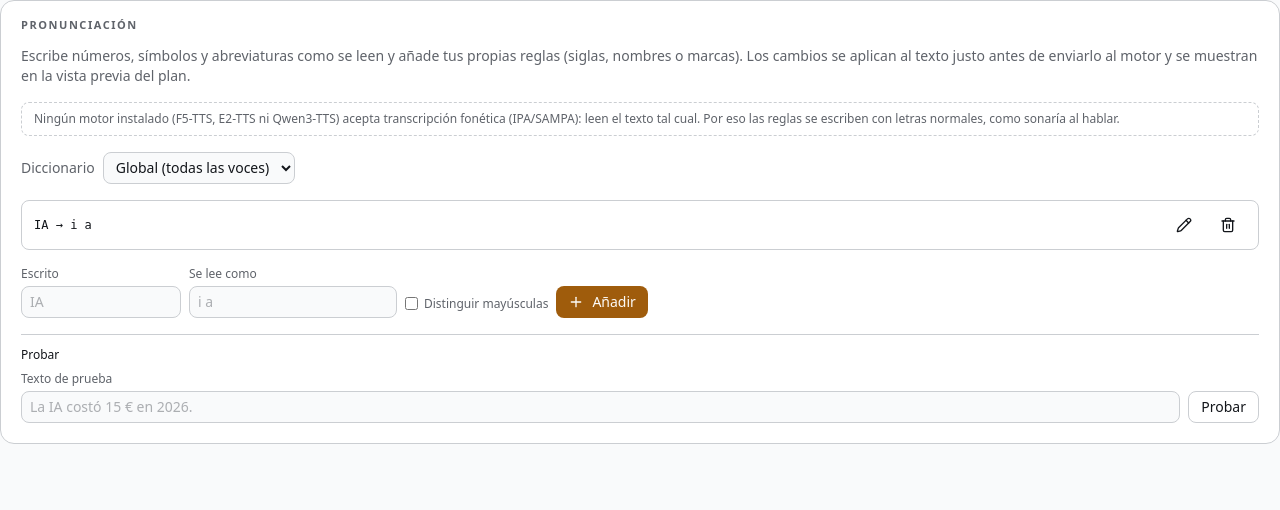
PronunciationCard › lists entries, adds one for a voice and shows the IPA limitation
Check: the text "IA → i a" is shown, box top-left (34, 218), bottom-right (92, 232)
Check: the text "transcripción fonética" is shown, box top-left (34, 110), bottom-right (1120, 126)
Step 1. Select "Mateo" in the dropdown labelled "Diccionario" → (199, 168), box top-left (103, 152), bottom-right (295, 184)
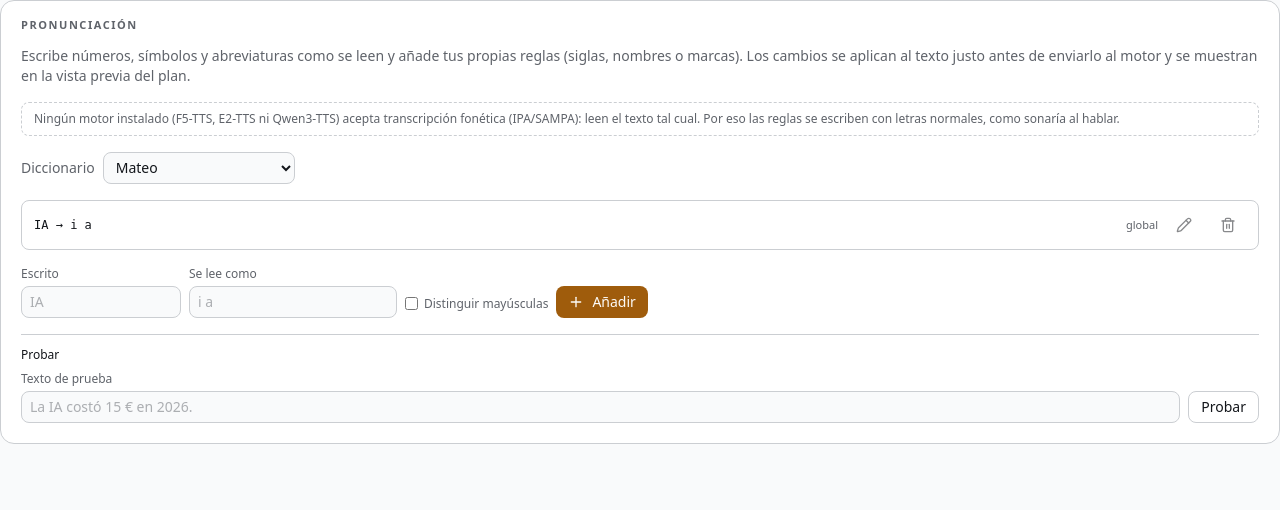
Step 2. Type " NASA " into the field labelled "Escrito" → (101, 302), box top-left (21, 286), bottom-right (181, 318)
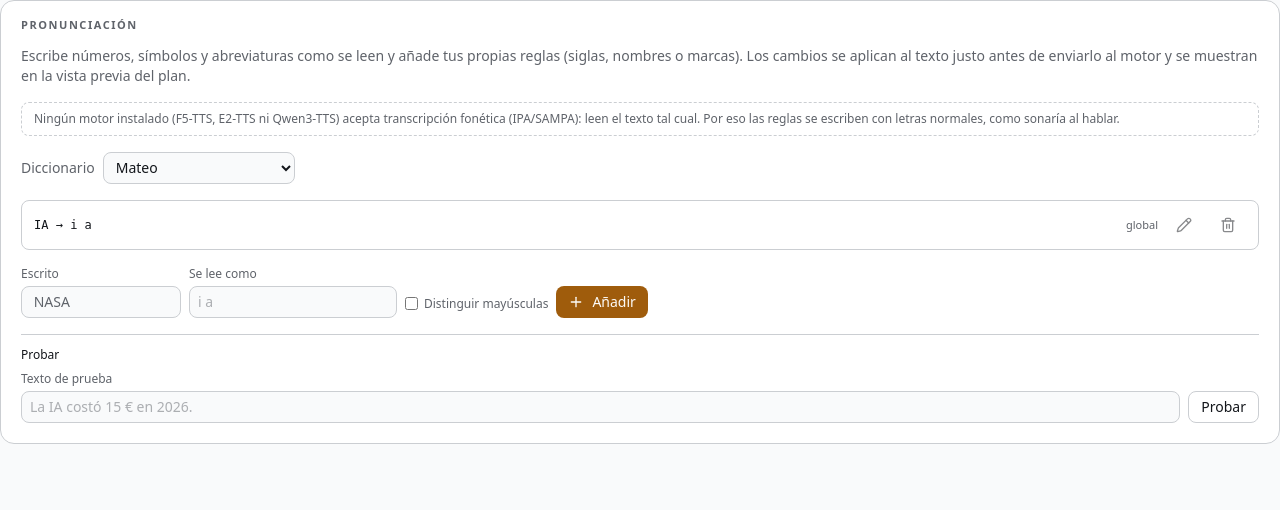
Step 3. Type "nasa" into the field labelled "Se lee como" → (293, 302), box top-left (189, 286), bottom-right (397, 318)
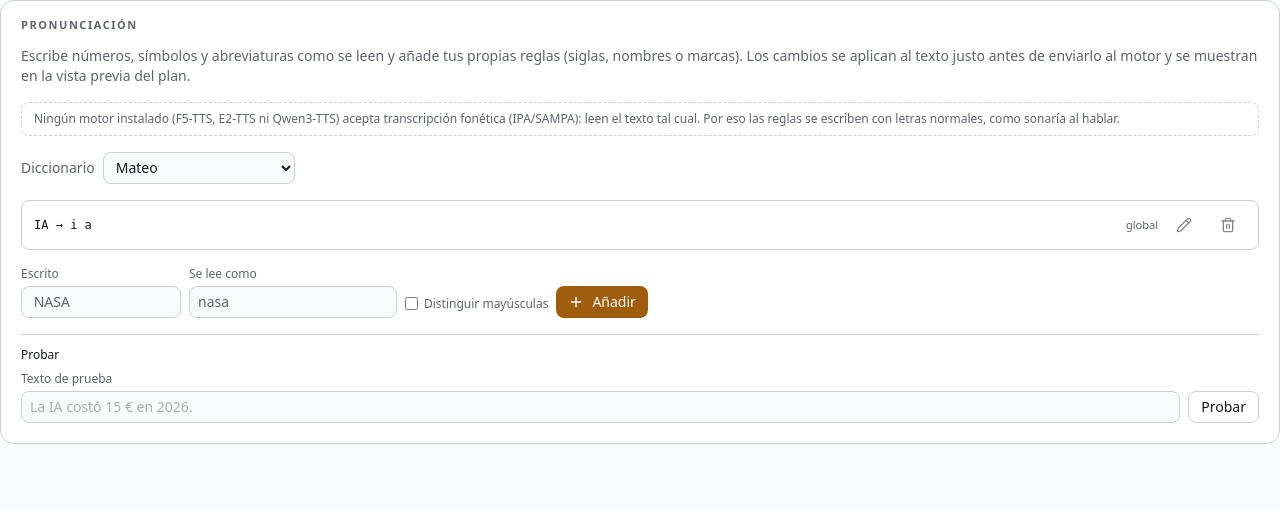
Step 4. Click the button "Añadir" → (602, 302), box top-left (556, 286), bottom-right (648, 318)
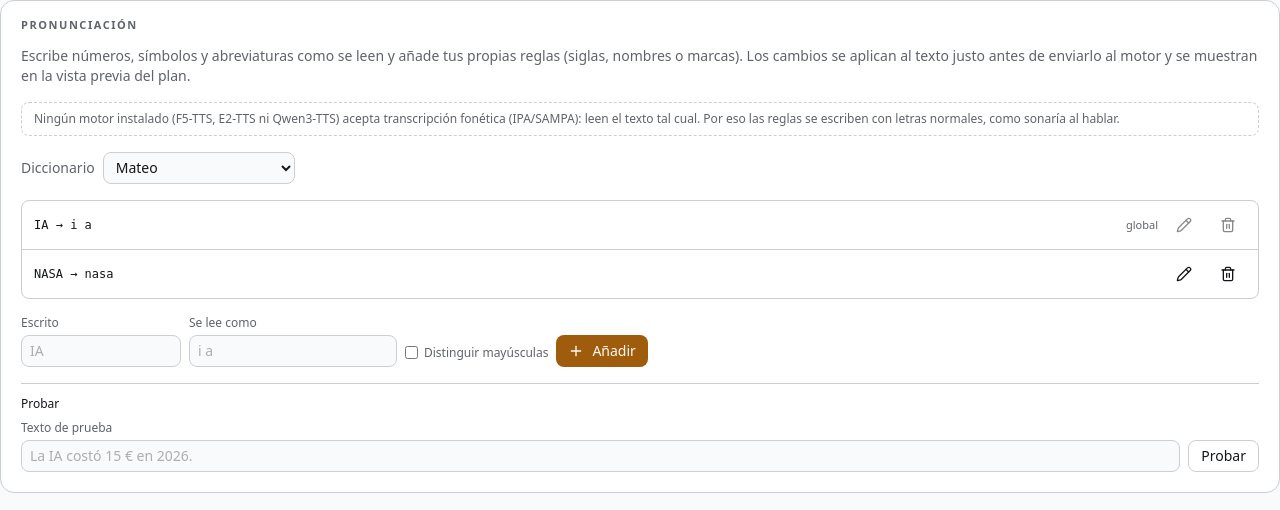
Check: the text "NASA → nasa" is shown, box top-left (34, 266), bottom-right (114, 280)
